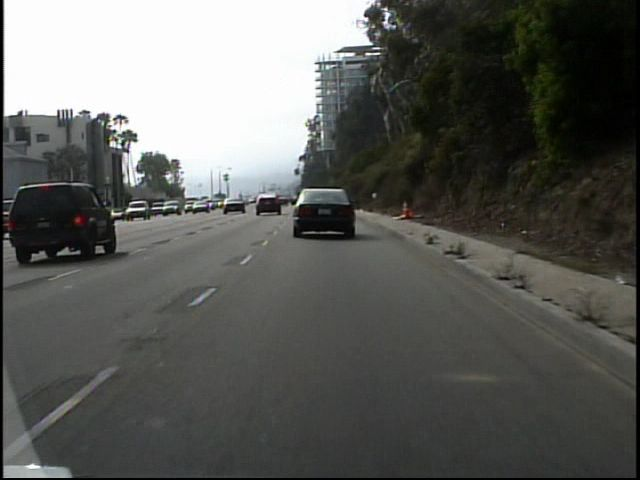car: (17, 115, 128, 261), (290, 184, 352, 236), (252, 192, 282, 214), (222, 193, 245, 215), (124, 201, 150, 219), (158, 199, 180, 216), (191, 201, 211, 215)
